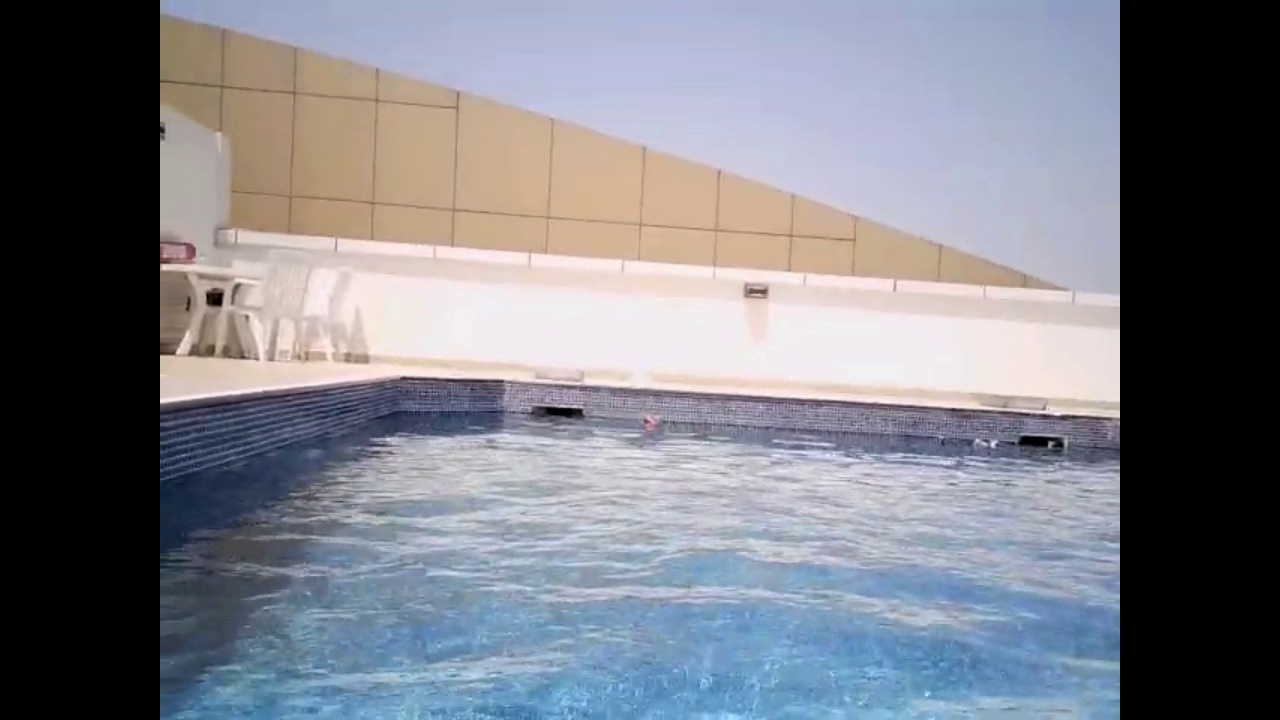debris: (970, 435, 994, 456), (976, 437, 1001, 457), (639, 415, 662, 435), (1045, 438, 1058, 454), (935, 433, 947, 447)
